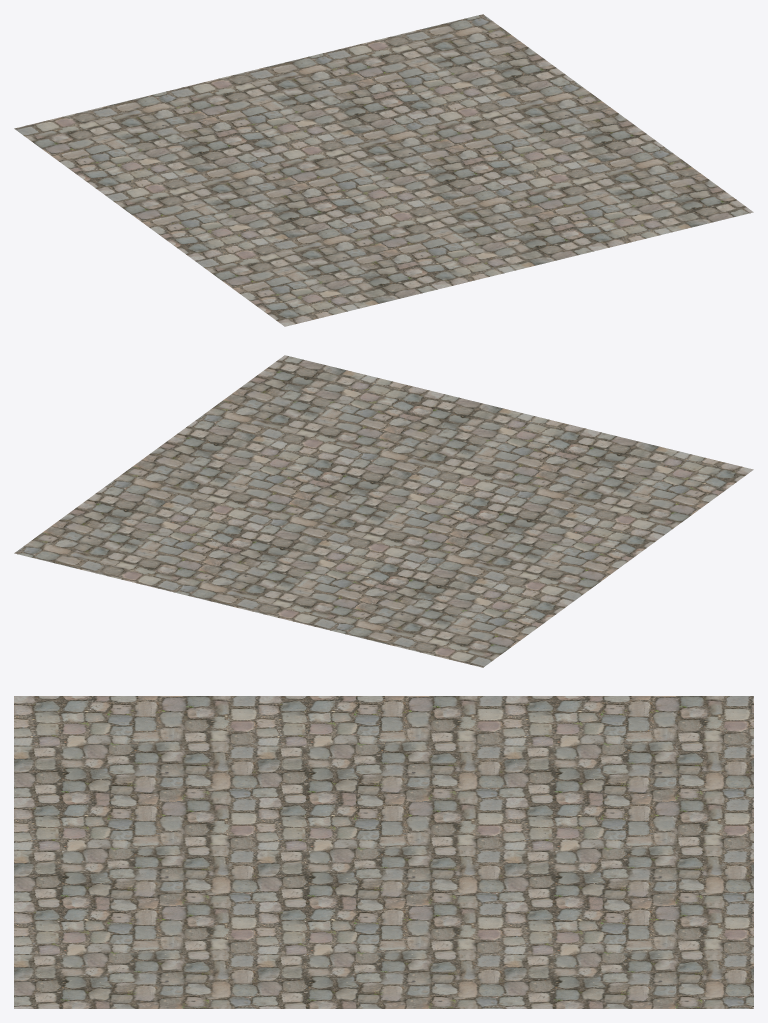
Rendered from cobblestone_floor.glb.
3 views of the same model, one above another, from view 1: azimuth 30°, elevation 25°; view 2: azimuth 150°, elevation 25°; view 3: azimuth 270°, elevation 25° (orthographic). The views are drawn at different scales.
Visible parts, largest first — view 1: pPlane1; view 2: pPlane1; view 3: pPlane1.
Boxes of the visible parts, box(x1,y1,x2,y2) form: pPlane1: box(14, 14, 753, 326); pPlane1: box(14, 355, 753, 667); pPlane1: box(14, 696, 753, 1008).
Size of the model in its own units: 512 by 0 by 512.
Materials: 1 (1 with a texture image).
